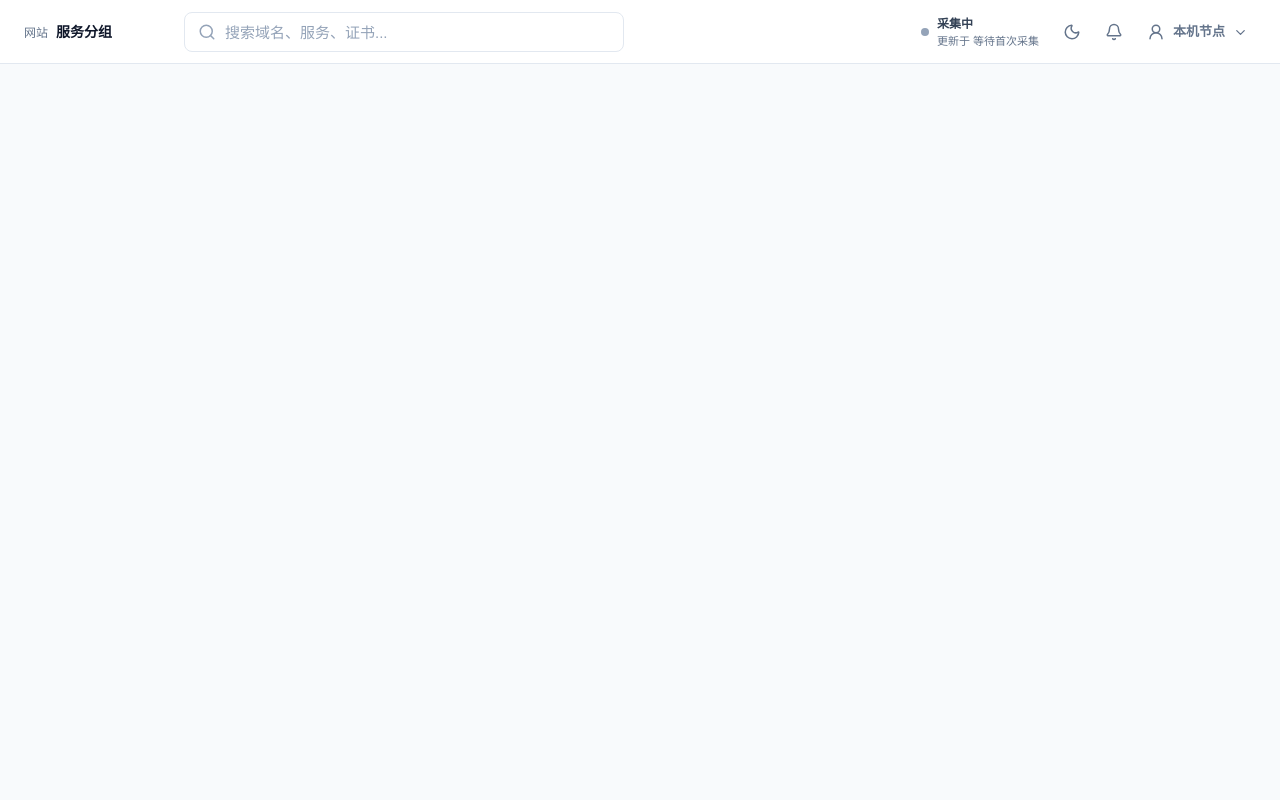
Test: theme provider › keeps the top-bar theme control available for a partial monitoring response
Click the button named "切换到深色主题" at (1072, 32), box x1=1055 y1=15 x2=1089 y2=49
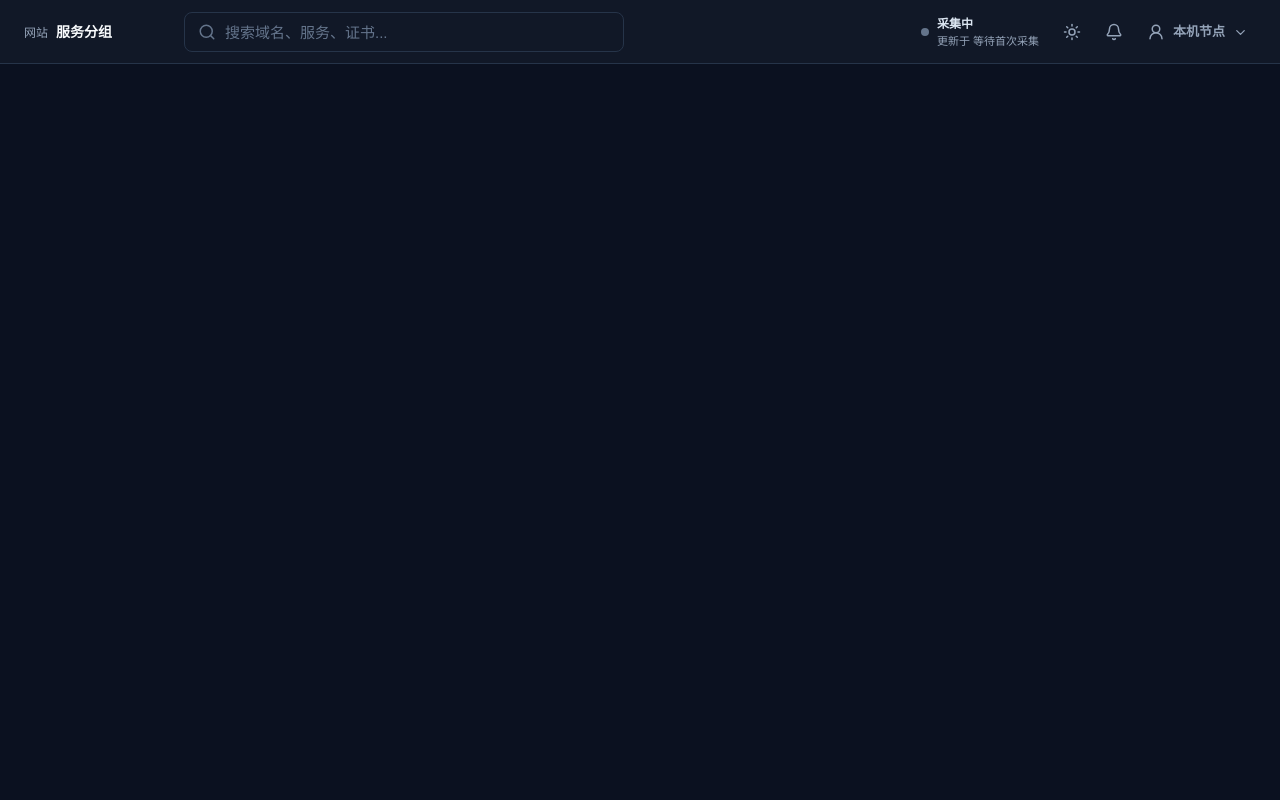
Check: the button named "切换到浅色主题" is shown, box x1=1055 y1=15 x2=1089 y2=49
